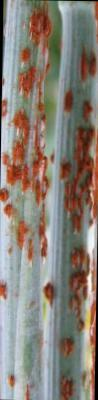Sugarcane: (7, 10, 95, 398)
